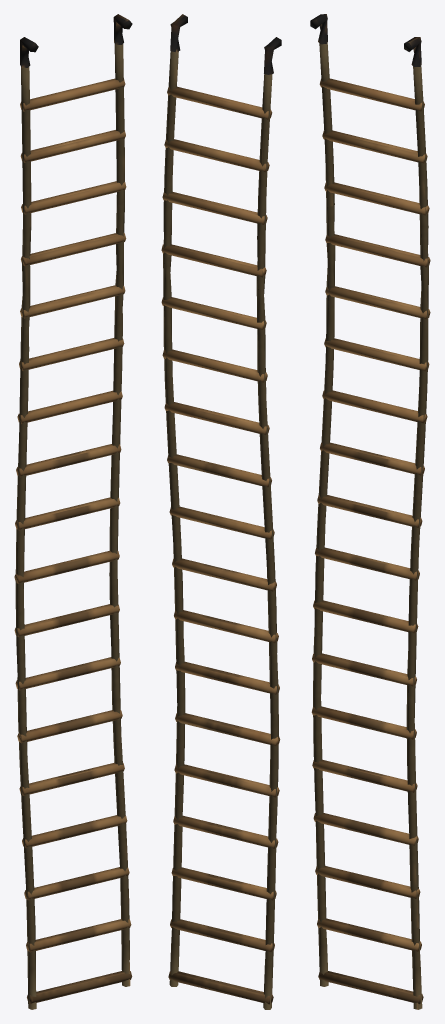
File: rope_ladder.obj
3 renders of one model, left to right at view 1: azimuth 30°, elevation 25°; view 2: azimuth 150°, elevation 25°; view 3: azimuth 330°, elevation 25°, orthographic.
Visible parts, largest first — view 1: part0, part2, part1; view 2: part0, part2, part1; view 3: part0, part2, part1.
Boxes of the visible parts, <box> form: part0: <box>14,78,132,1003</box>; part2: <box>15,44,130,1009</box>; part1: <box>20,14,132,67</box>; part0: <box>161,86,280,1004</box>; part2: <box>163,51,278,1009</box>; part1: <box>170,14,281,74</box>; part0: <box>311,78,430,1004</box>; part2: <box>313,43,428,1009</box>; part1: <box>310,14,421,66</box>.
Size of the model in its own units: 0.709 by 5.93 by 0.1698.
